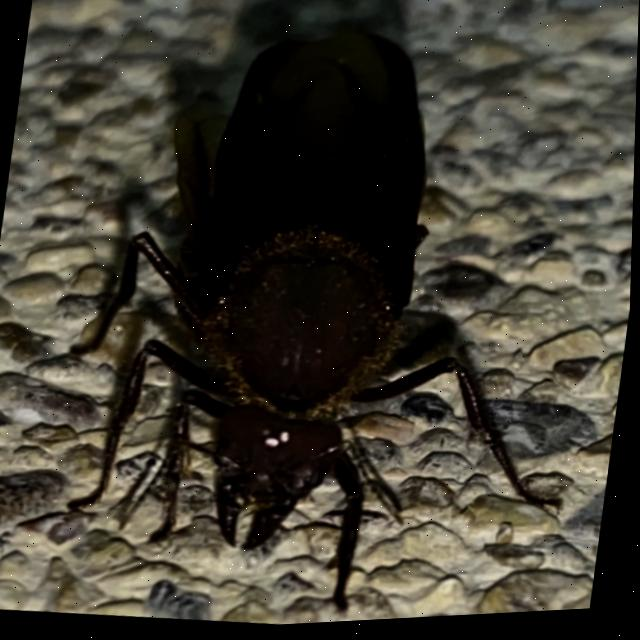Alive-Female-Alate: (39, 0, 626, 638)
